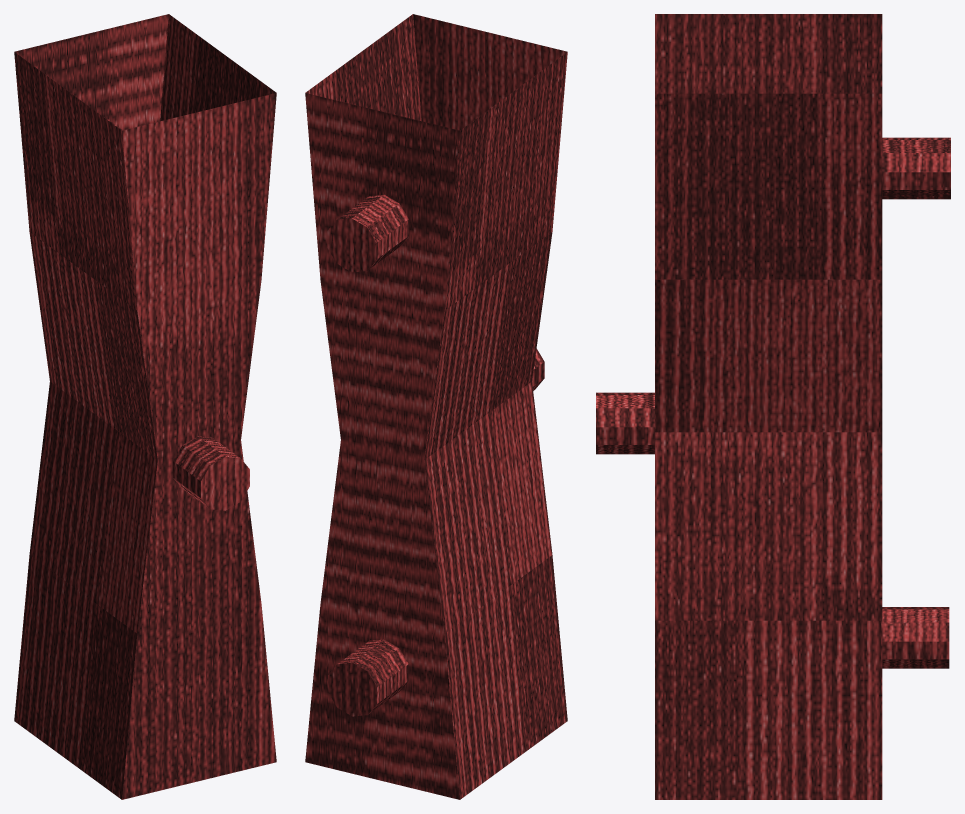
File: Cloth_Wall.obj
3 views of the same model, side by side, from view 1: azimuth 30°, elevation 25°; view 2: azimuth 150°, elevation 25°; view 3: azimuth 270°, elevation 25° (orthographic). The views are drawn at different scales.
Parts seen in each view (by area): view 1: Plane; view 2: Plane; view 3: Plane.
Boxes of the visible parts, box(x1,y1,x2,y2) form: Plane: box(14, 14, 276, 799); Plane: box(305, 14, 567, 799); Plane: box(596, 14, 950, 799).
Size of the model in its own units: 1.4 by 5.79 by 2.64.
Materials: 1 (1 with a texture image).
